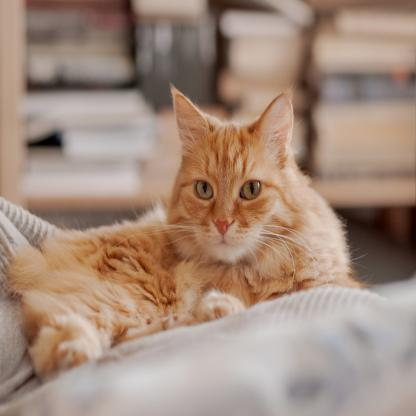cat: (166, 83, 294, 297)
